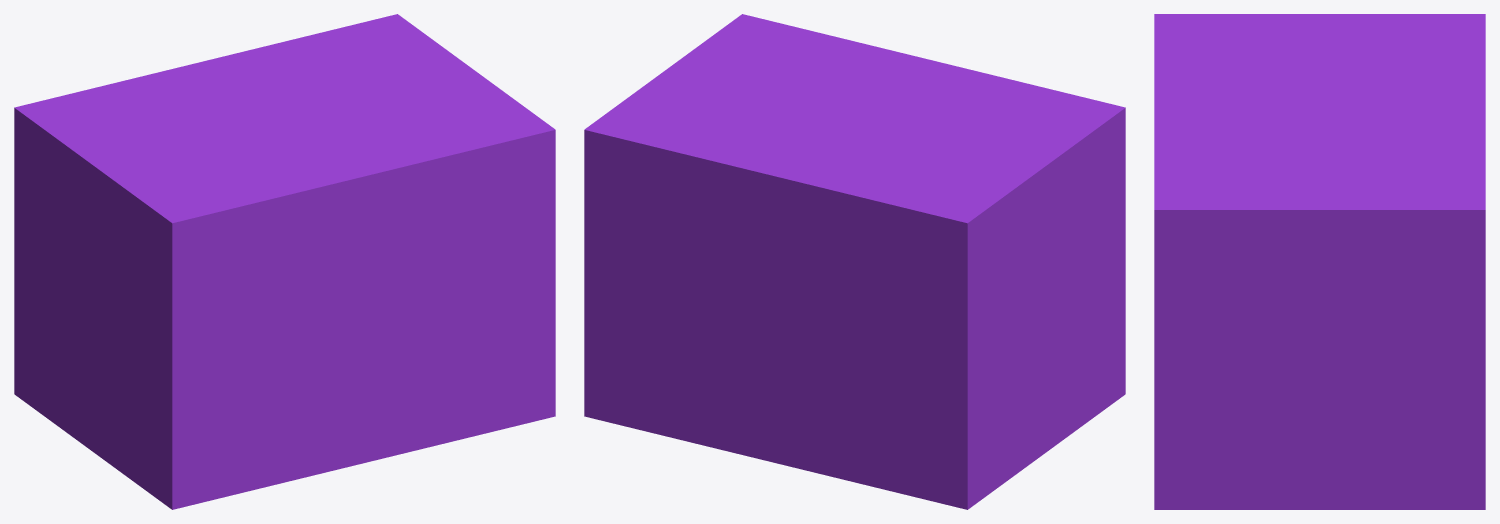
Rendered from RobotBody.fbx.
3 renders of one model, left to right at view 1: azimuth 30°, elevation 25°; view 2: azimuth 150°, elevation 25°; view 3: azimuth 270°, elevation 25°, orthographic. The views are drawn at different scales.
Parts seen in each view (by area): view 1: RobotBody; view 2: RobotBody; view 3: RobotBody.
Boxes of the visible parts, x1,y1,x2,y2 form: RobotBody: [14, 14, 555, 509]; RobotBody: [584, 14, 1125, 509]; RobotBody: [1154, 14, 1485, 509].
Size of the model in its own units: 10 by 14 by 10.
